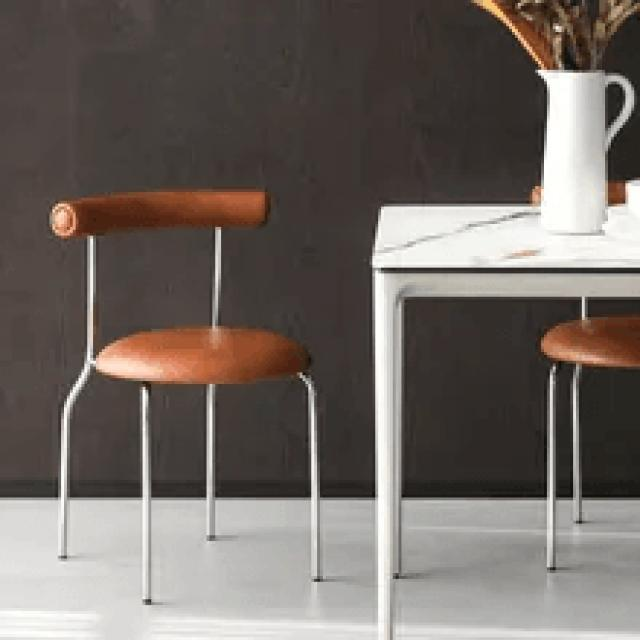chair: (47, 184, 330, 607), (48, 188, 308, 386)
